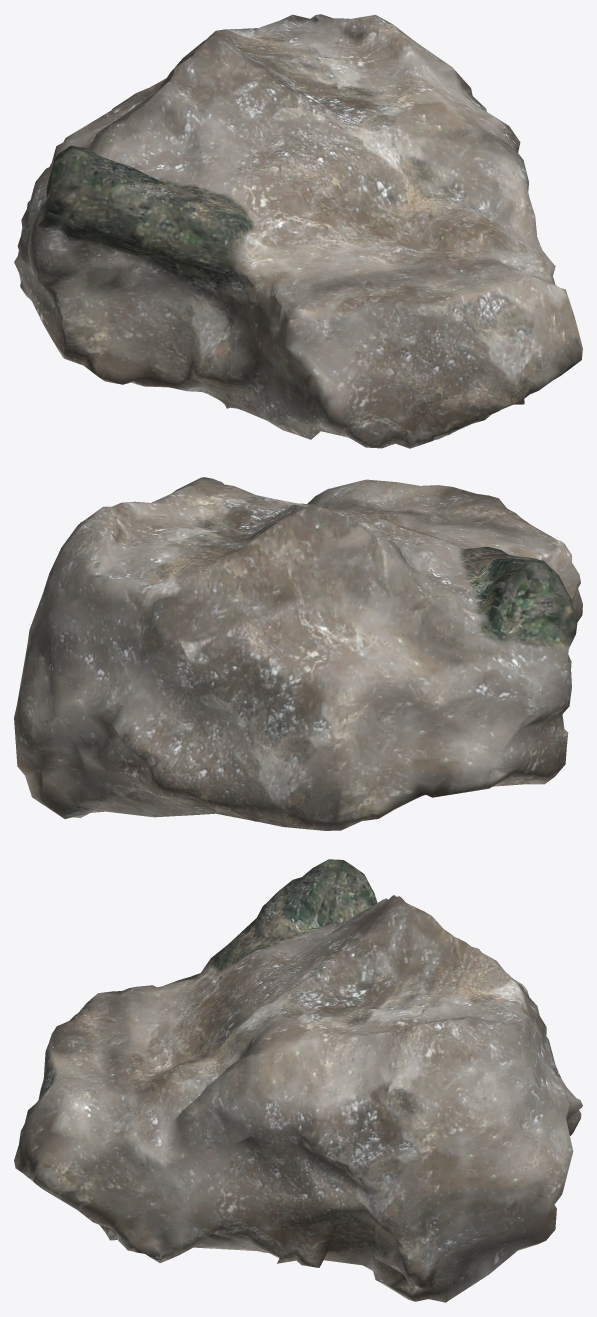
File: emerald_in_quartz__for_games.glb
3 renders of one model, top to bottom at view 1: azimuth 30°, elevation 25°; view 2: azimuth 150°, elevation 25°; view 3: azimuth 270°, elevation 25°, orthographic. The views are drawn at different scales.
Parts seen in each view (by area): view 1: Object_2; view 2: Object_2; view 3: Object_2.
Boxes of the visible parts, x1,y1,x2,y2 form: Object_2: [14, 14, 582, 448]; Object_2: [14, 477, 582, 830]; Object_2: [14, 859, 582, 1302].
Size of the model in its own units: 1.3 by 0.8363 by 1.45.
Materials: 1 (1 with a texture image).
